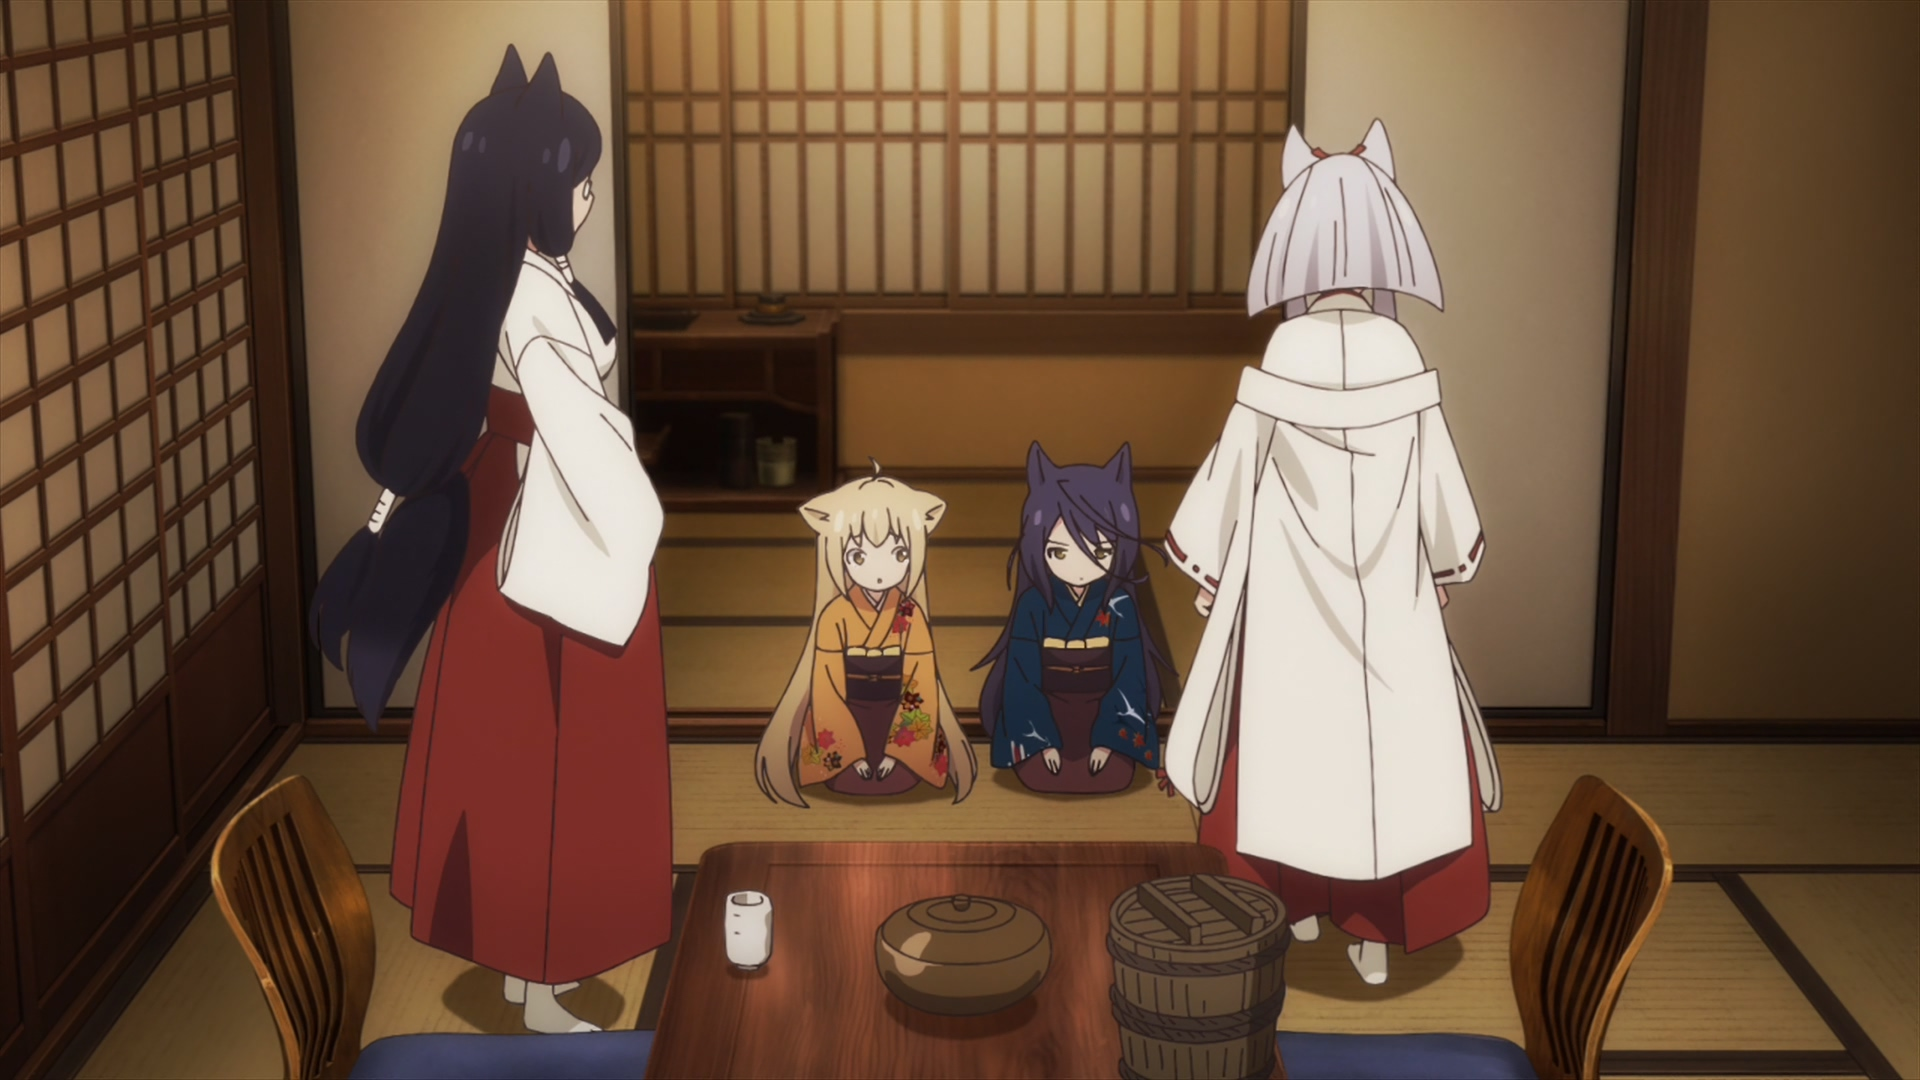柊: (1164, 119, 1501, 985)
柚: (756, 458, 976, 808)
皋: (971, 443, 1183, 800)
菖: (307, 44, 674, 1034)
